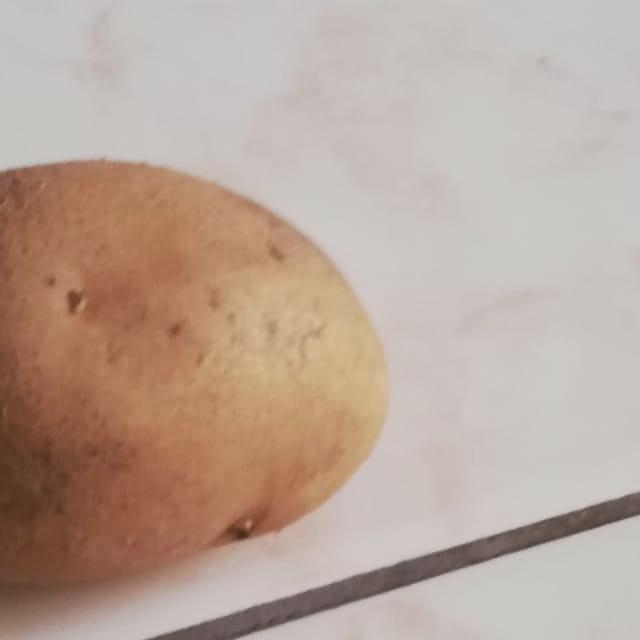potato: (0, 139, 418, 602)
